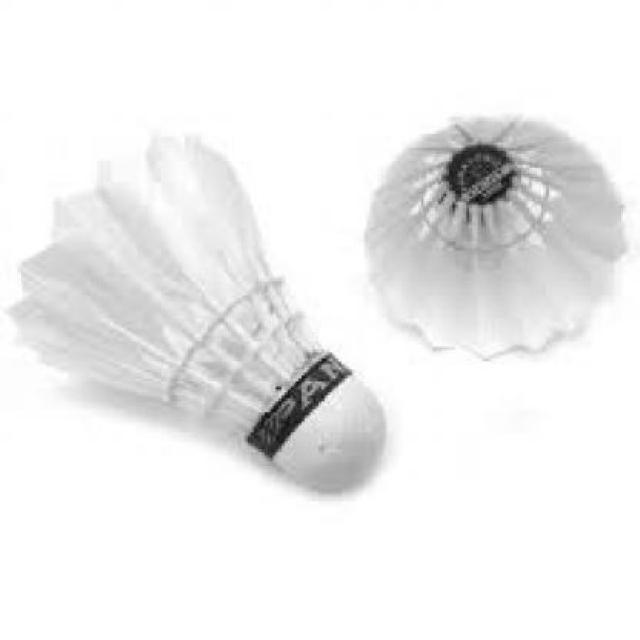Shuttlecock: (10, 130, 388, 492), (366, 110, 632, 364)
